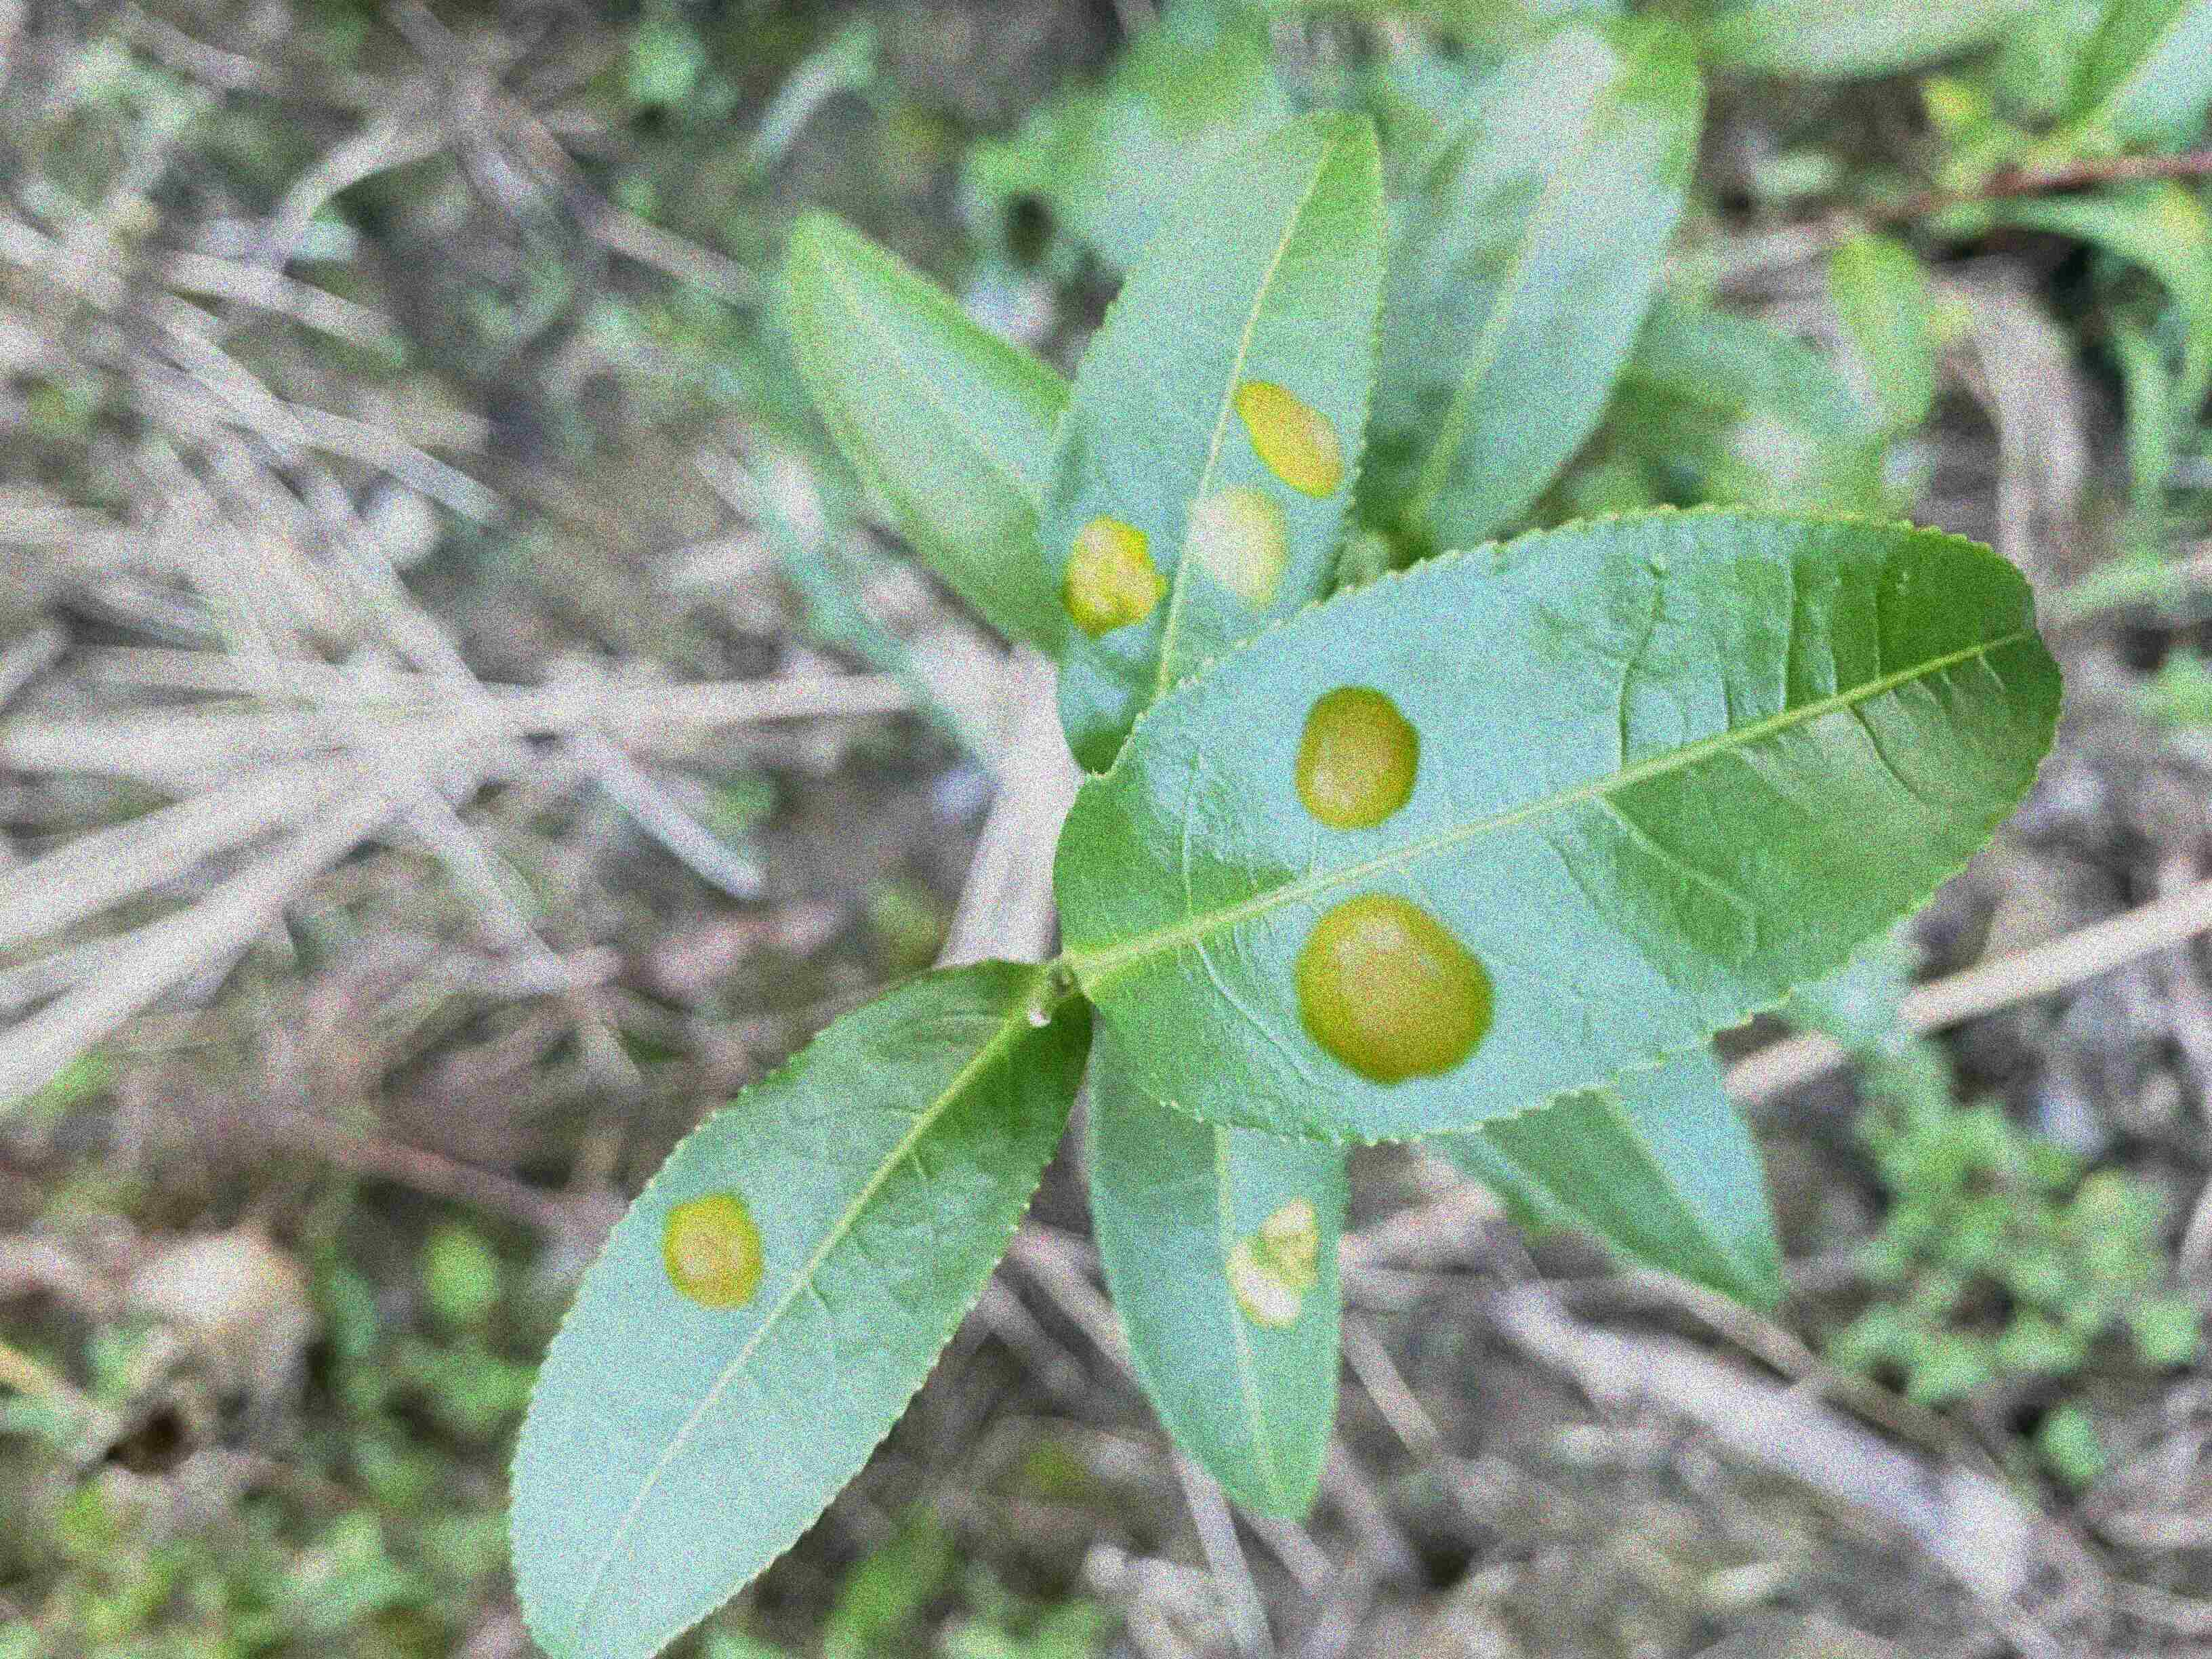chabing_high: (1052, 498, 2066, 1147), (1035, 105, 1379, 772)
chabing_low: (503, 957, 1094, 1656), (1090, 1075, 1353, 1516)
